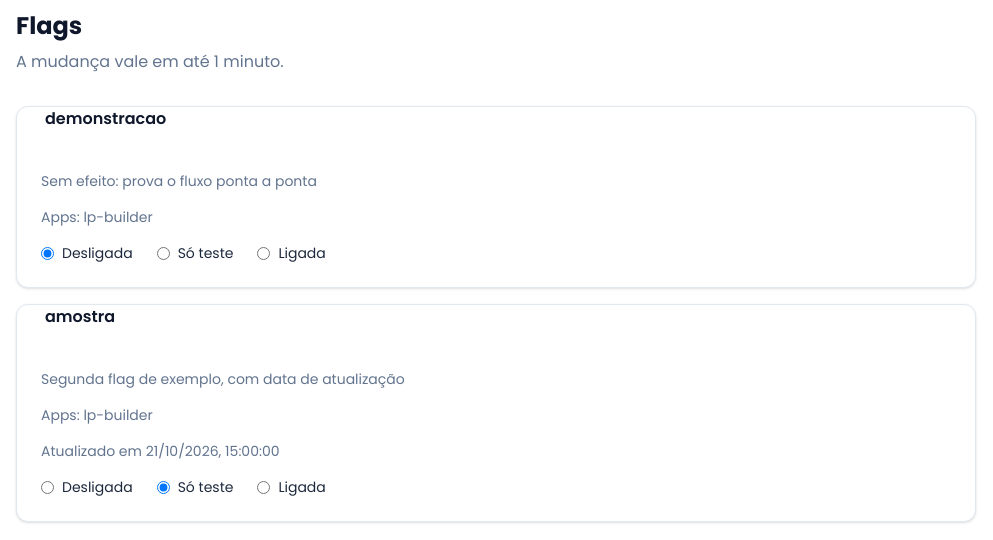
Test: Página de flags › com uma flag gravando, mexer em outra não reabilita os radios da primeira
This screenshot has width=993, height=540.
expect the element "demonstracao" is shown: met, box [41,107,326,263]
Click the radio button labelled "Só teste" below "Sem efeito: prova o fluxo ponta a ponta": (163,253) [157,246,170,260]
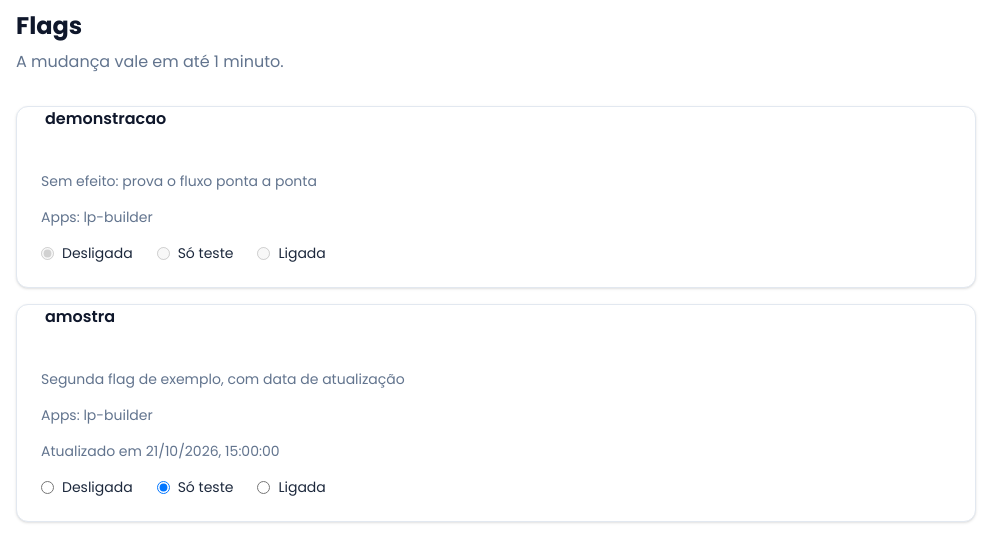
expect the radio button labelled "Ligada" below "Sem efeito: prova o fluxo ponta a ponta" is disabled: met, box [257,246,270,260]
Click the radio button labelled "Desligada" below "Atualizado em": (48,487) [41,480,54,494]
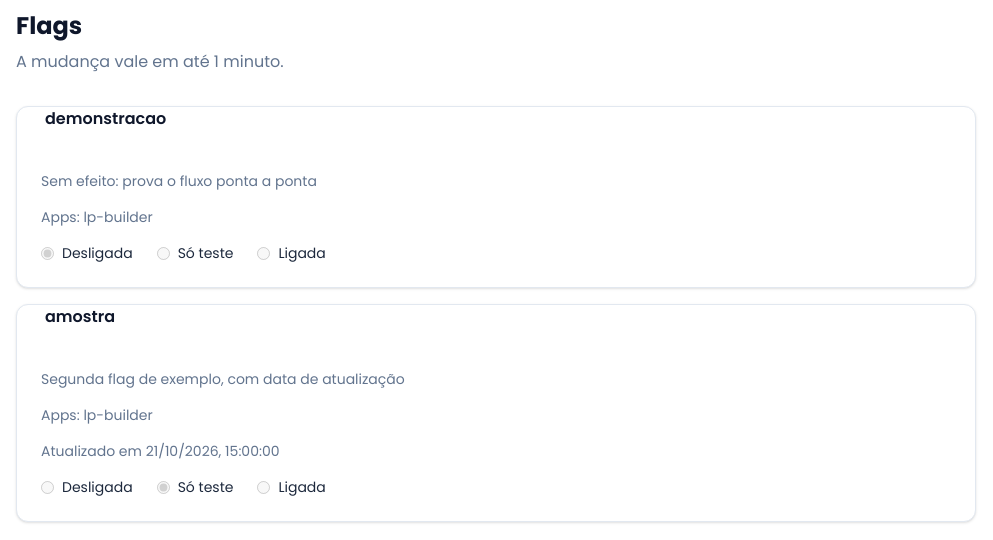
expect the radio button labelled "Ligada" below "Sem efeito: prova o fluxo ponta a ponta" is disabled: met, box [257,246,270,260]
expect the radio button labelled "Desligada" below "Sem efeito: prova o fluxo ponta a ponta" is disabled: met, box [41,246,54,260]
expect the radio button labelled "Ligada" below "Atualizado em" is disabled: met, box [257,480,270,494]
